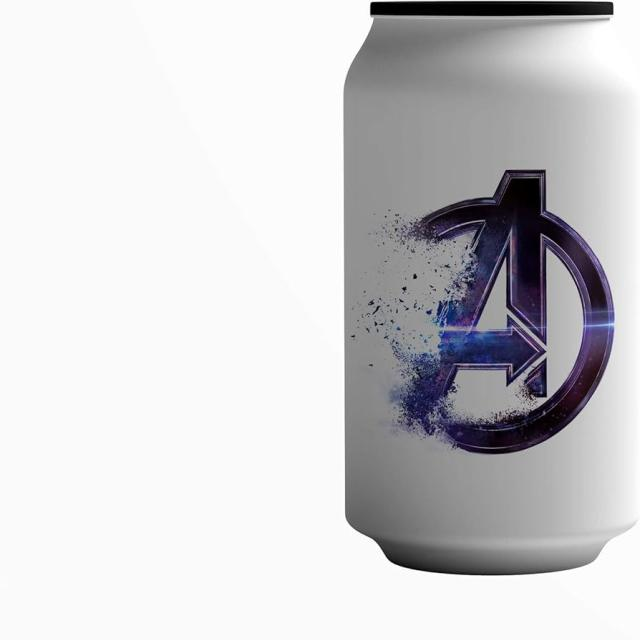soda_can: (311, 0, 640, 640), (315, 0, 640, 623)
